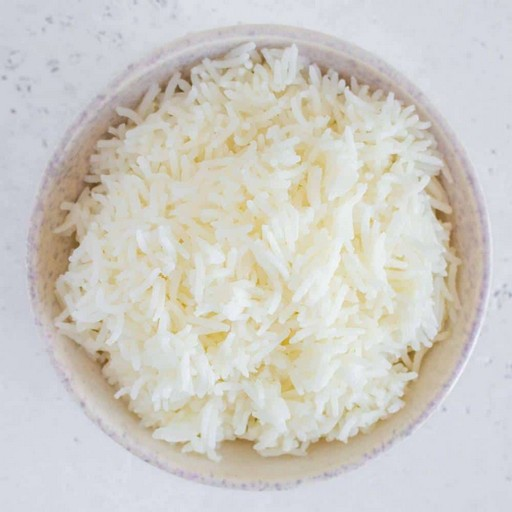rice: (148, 90, 370, 254)
